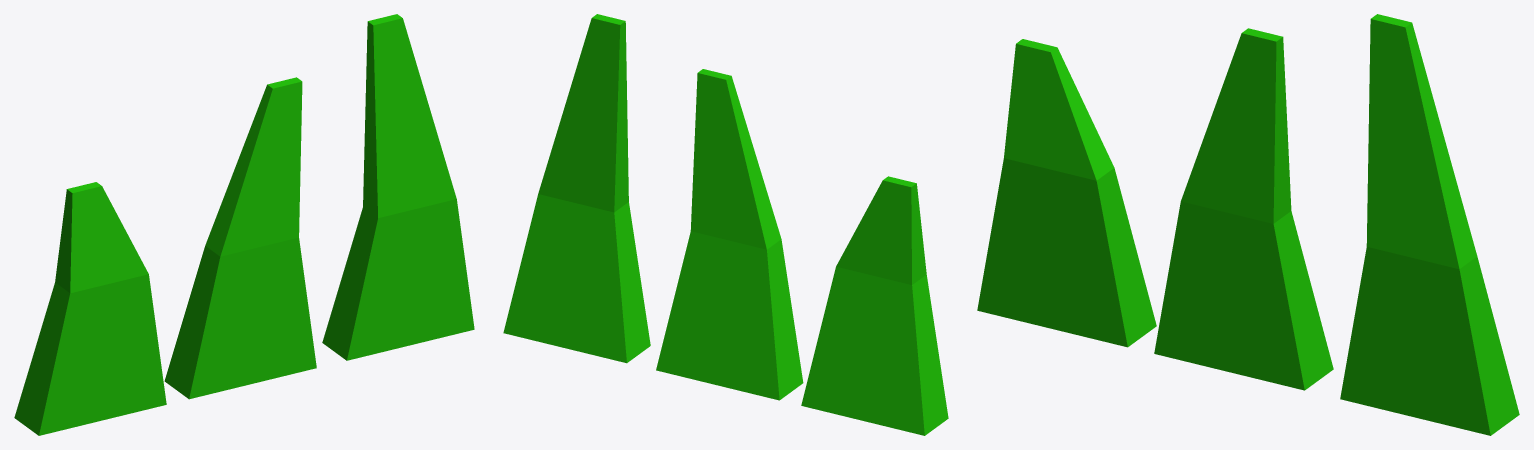
The model's file is gras_1.fbx.
The picture shows the model from 3 angles, left to right: view 1: azimuth 30°, elevation 25°; view 2: azimuth 150°, elevation 25°; view 3: azimuth 330°, elevation 25°; orthographic projection. The views are drawn at different scales.
Parts seen in each view (by area): view 1: Cube; view 2: Cube; view 3: Cube.
Part boxes in pixels (left/top/right/bottom): Cube: left=14, top=14, right=474, bottom=435; Cube: left=503, top=14, right=948, bottom=435; Cube: left=977, top=14, right=1519, bottom=435.
Bounding box in the file's own units: 49.57 × 35.8 × 5.79.
